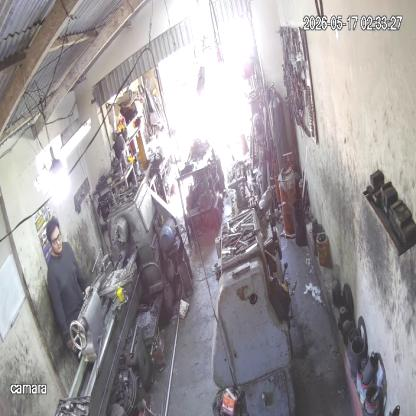lentes: (47, 230, 63, 248)
